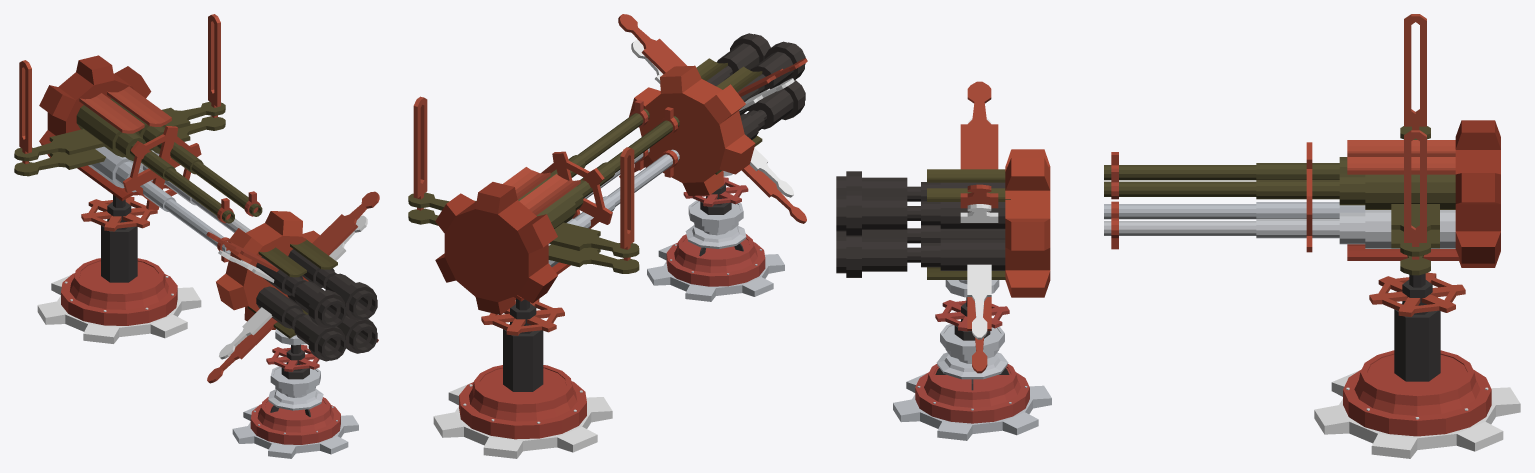
File: Sub Plants Set 4.fbx
The picture shows the model from 3 angles, left to right: view 1: azimuth 30°, elevation 25°; view 2: azimuth 150°, elevation 25°; view 3: azimuth 270°, elevation 25°; orthographic projection. The views are drawn at different scales.
Parts seen in each view (by area): view 1: Gun_9_Mid, Bomber_2_Gun.002, Gun_9_Base, Bomber_2_Base.008; view 2: Gun_9_Mid, Bomber_2_Gun.002, Gun_9_Base, Bomber_2_Base.008; view 3: Gun_9_Mid, Bomber_2_Gun.002, Gun_9_Base, Bomber_2_Base.008.
Boxes of the visible parts, left/top/right/bottom form: Gun_9_Mid: left=14, top=14, right=262, bottom=282; Bomber_2_Gun.002: left=206, top=191, right=379, bottom=410; Gun_9_Base: left=37, top=258, right=201, bottom=343; Bomber_2_Base.008: left=232, top=397, right=358, bottom=458; Gun_9_Mid: left=408, top=96, right=679, bottom=391; Bomber_2_Gun.002: left=618, top=14, right=807, bottom=248; Gun_9_Base: left=433, top=365, right=612, bottom=458; Bomber_2_Base.008: left=647, top=234, right=784, bottom=301; Gun_9_Mid: left=1104, top=14, right=1500, bottom=381; Bomber_2_Gun.002: left=836, top=81, right=1050, bottom=379; Gun_9_Base: left=1314, top=350, right=1520, bottom=458; Bomber_2_Base.008: left=893, top=364, right=1051, bottom=440.
Bounding box in the file's own units: 9653 × 12071 × 21780.
